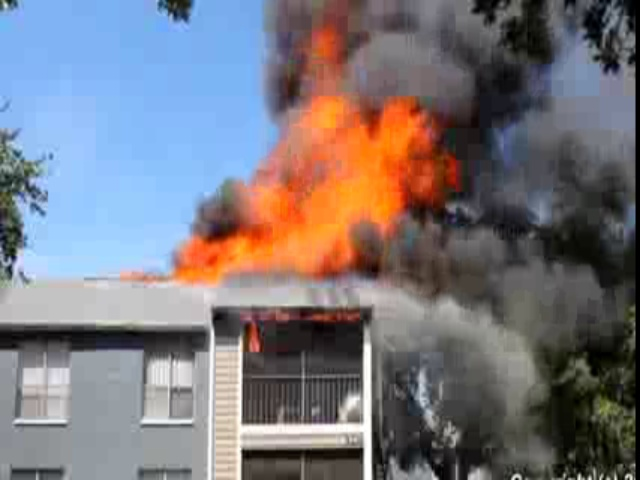fire: (169, 92, 454, 281)
